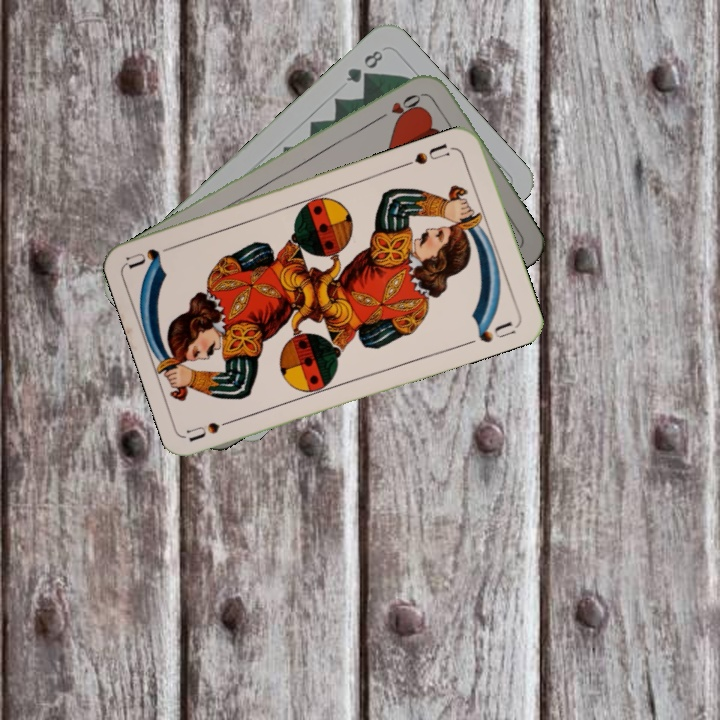G8: (341, 46, 386, 86)
HO: (372, 88, 427, 124)
SU: (185, 413, 243, 443), (400, 139, 452, 169)
